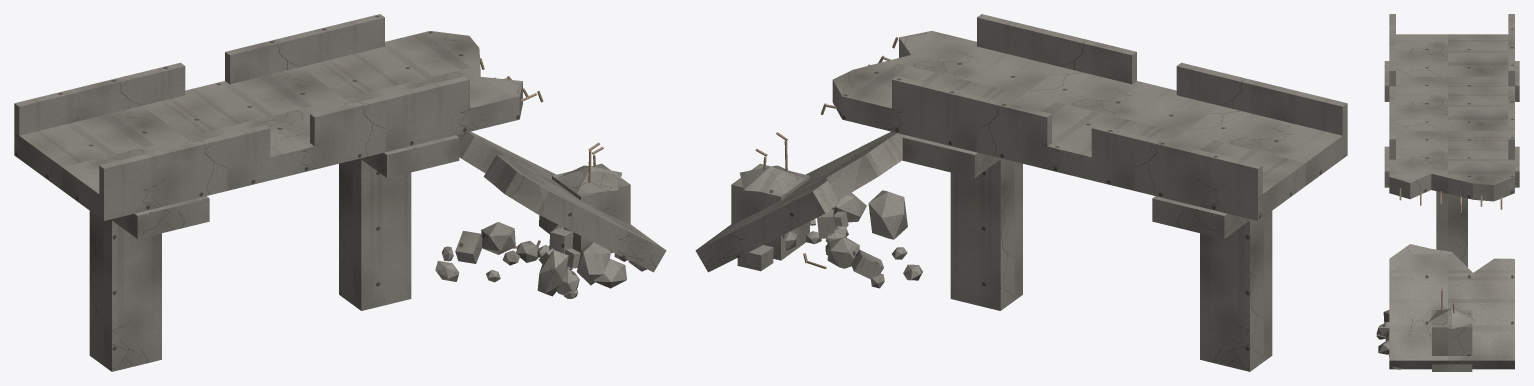
The model's file is Overpass_Fragment.fbx.
3 views of the same model, side by side, from view 1: azimuth 30°, elevation 25°; view 2: azimuth 150°, elevation 25°; view 3: azimuth 270°, elevation 25° (orthographic). The views are drawn at different scales.
Parts seen in each view (by area): view 1: Overpass_Fragment; view 2: Overpass_Fragment; view 3: Overpass_Fragment.
Boxes of the visible parts, left/top/right/bottom form: Overpass_Fragment: left=14, top=14, right=666, bottom=371; Overpass_Fragment: left=695, top=14, right=1347, bottom=371; Overpass_Fragment: left=1376, top=14, right=1519, bottom=371.
Bounding box in the file's own units: 10.16 × 4.18 × 3.19.
2 materials, 1 textured.
